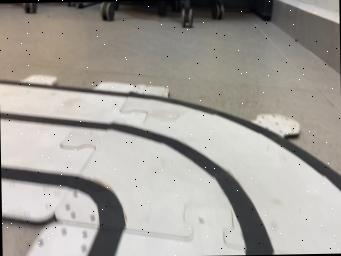street: (0, 78, 341, 256), (0, 78, 341, 256), (0, 78, 341, 256), (0, 78, 341, 256), (0, 78, 341, 256), (0, 78, 341, 256)
